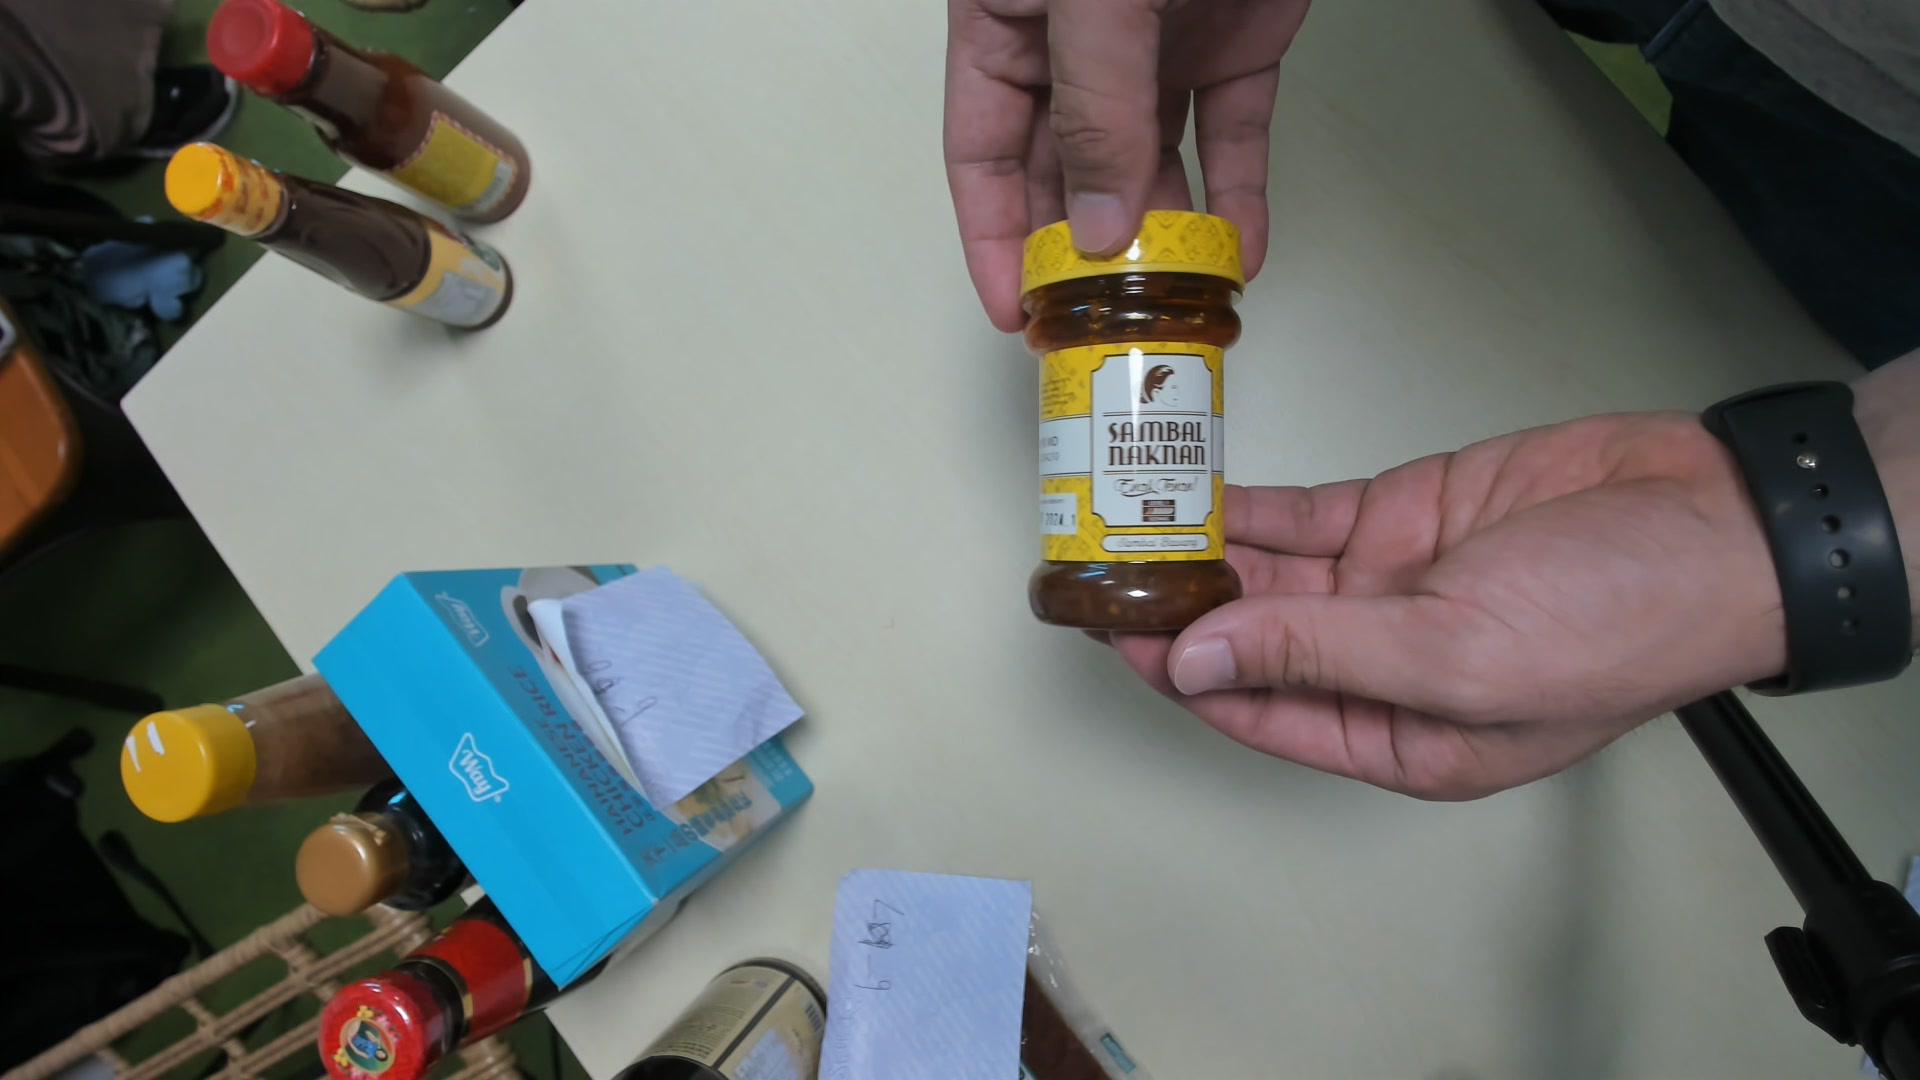KetchupChillSauce_100-199g_Halal_NonHealthy: (1022, 207, 1247, 632)
